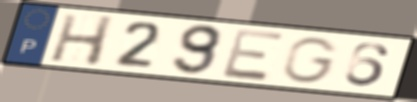2: (111, 20, 164, 71)
6: (343, 42, 391, 89)
9: (168, 23, 224, 78)
E: (219, 27, 288, 83)
G: (281, 36, 342, 85)
H: (47, 12, 118, 68)
